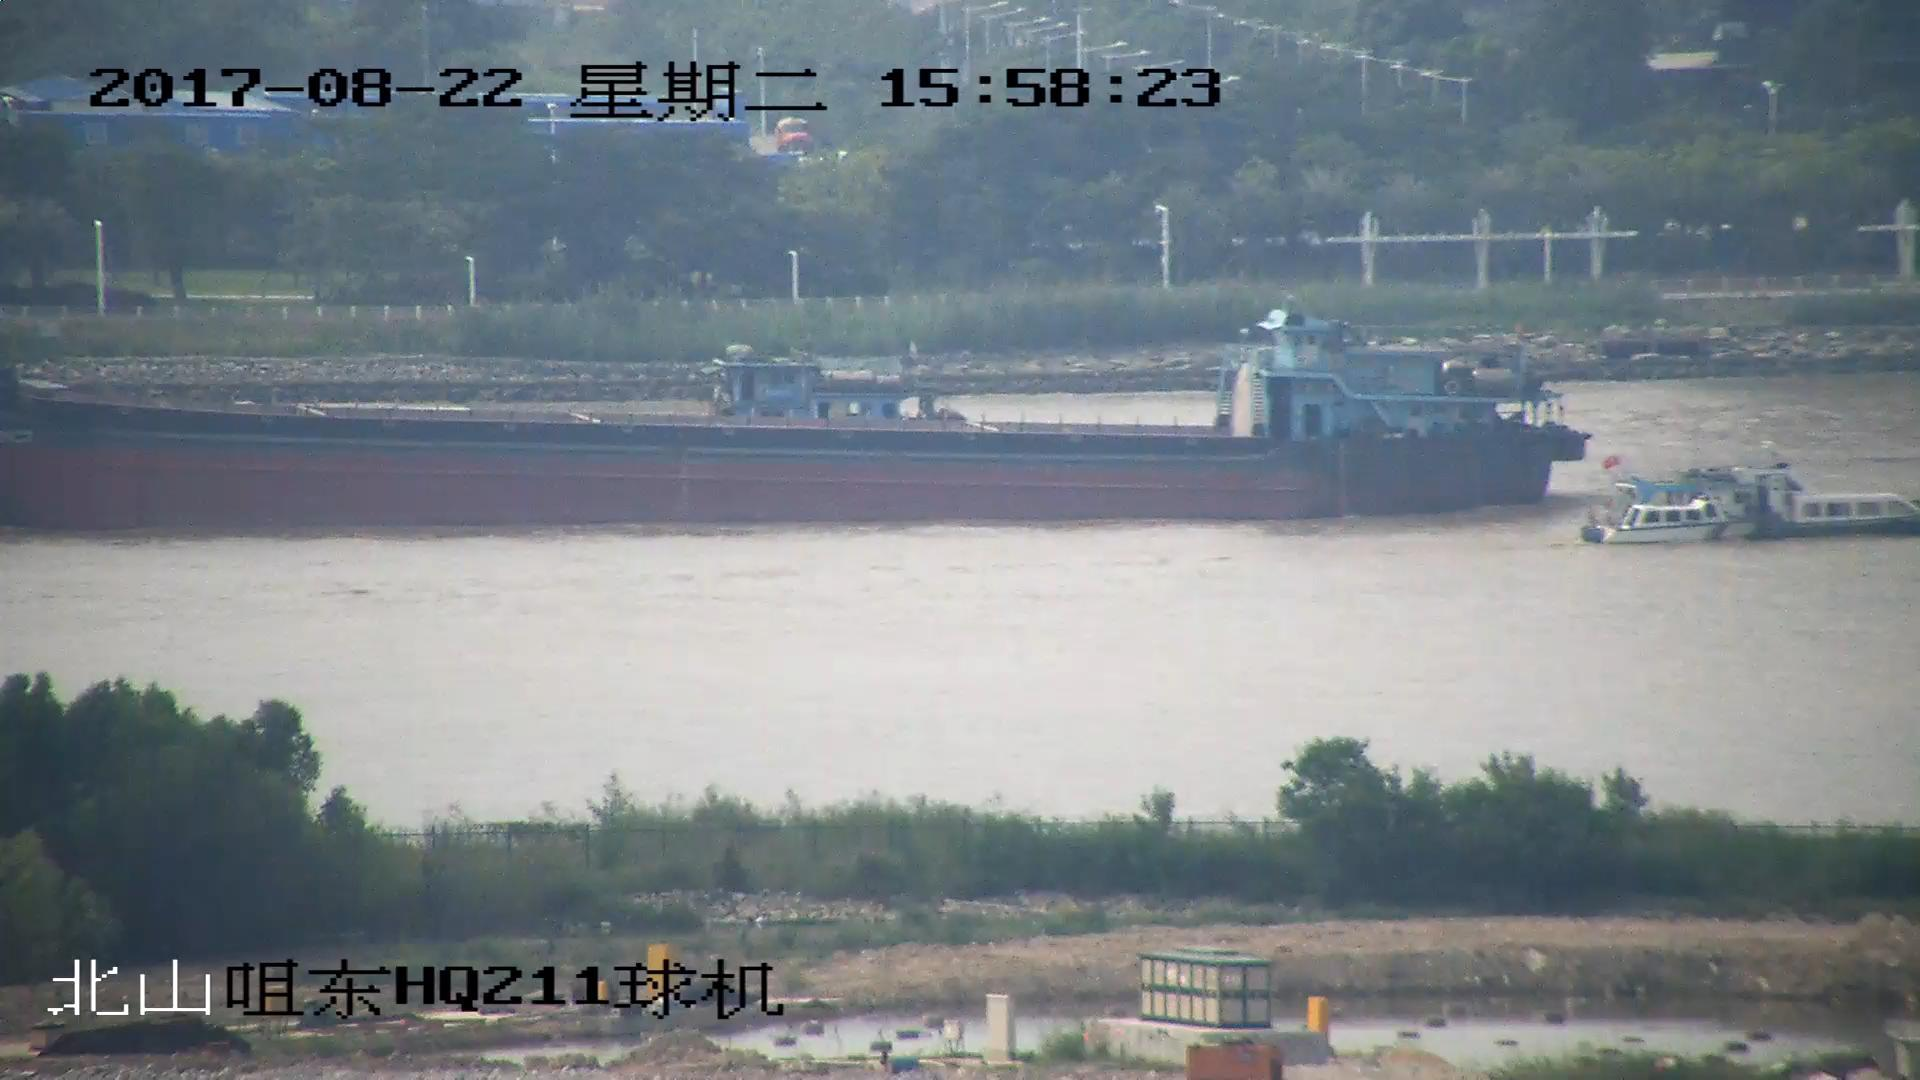Ship: (3, 301, 1598, 521), (1577, 458, 1920, 545)
